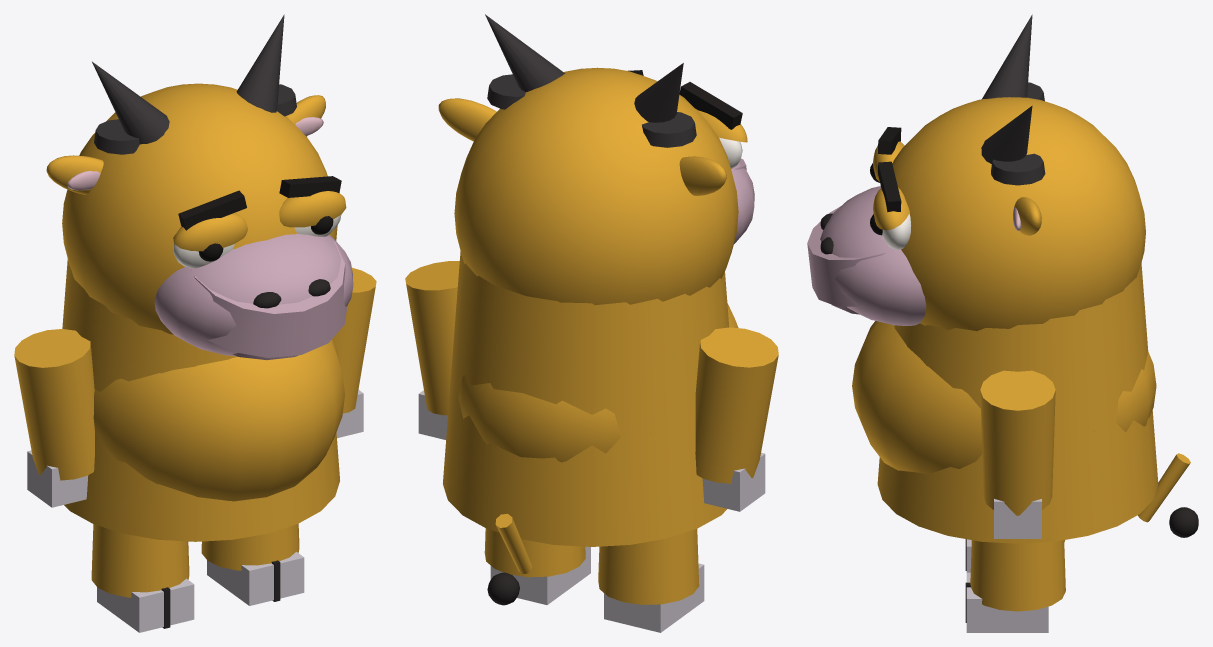
Rendered from niulai_cow.glb.
The picture shows the model from 3 angles, left to right: view 1: azimuth 30°, elevation 25°; view 2: azimuth 150°, elevation 25°; view 3: azimuth 270°, elevation 25°; orthographic projection. The views are drawn at different scales.
Parts seen in each view (by area): view 1: Head_Skull, Belly, Torso, Muzzle_Snout, Arm_L, Leg_L, Leg_R, Eye_L, Arm_R, Horn_L, Eye_R, Horn_R (+2 smaller); view 2: Torso, Head_Skull, Arm_L, Leg_L, Belly, Arm_R, Leg_R, Horn_R, Horn_L, Eye_L, Tail, Ear_R (+2 smaller); view 3: Head_Skull, Torso, Belly, Arm_R, Muzzle_Snout, Leg_R, Horn_R, Eye_R, Horn_L, Tail, Eye_L, Ear_R.
Boxes of the visible parts, x1,y1,x2,y2 form: Head_Skull: (62,83,337,334); Belly: (93,339,344,501); Torso: (62,259,339,541); Muzzle_Snout: (154,233,353,360); Arm_L: (14,329,94,507); Leg_L: (91,524,194,632); Leg_R: (201,523,304,605); Eye_L: (173,190,247,268); Arm_R: (332,267,376,438); Horn_L: (92,61,169,154); Eye_R: (279,176,346,236); Horn_R: (236,14,296,116); Torso: (443,251,729,546); Head_Skull: (454,67,738,305); Arm_L: (695,327,778,511); Leg_L: (598,529,704,632); Belly: (452,303,738,462); Arm_R: (405,261,459,439); Leg_R: (484,528,590,604); Horn_R: (485,14,564,109); Horn_L: (634,63,696,147); Eye_L: (679,82,747,169); Tail: (487,513,531,605); Ear_R: (438,98,496,141); Head_Skull: (892,97,1145,330); Torso: (877,263,1158,543); Belly: (852,321,1156,473); Arm_R: (980,370,1055,538); Muzzle_Snout: (807,186,926,325); Leg_R: (965,540,1065,632); Horn_R: (981,105,1045,185); Eye_R: (870,161,911,249); Horn_L: (982,14,1044,101); Tail: (1138,453,1198,537); Eye_L: (870,127,904,182); Ear_R: (1013,197,1041,235).
Size of the model in its own units: 2.31 by 3.45 by 2.29.
